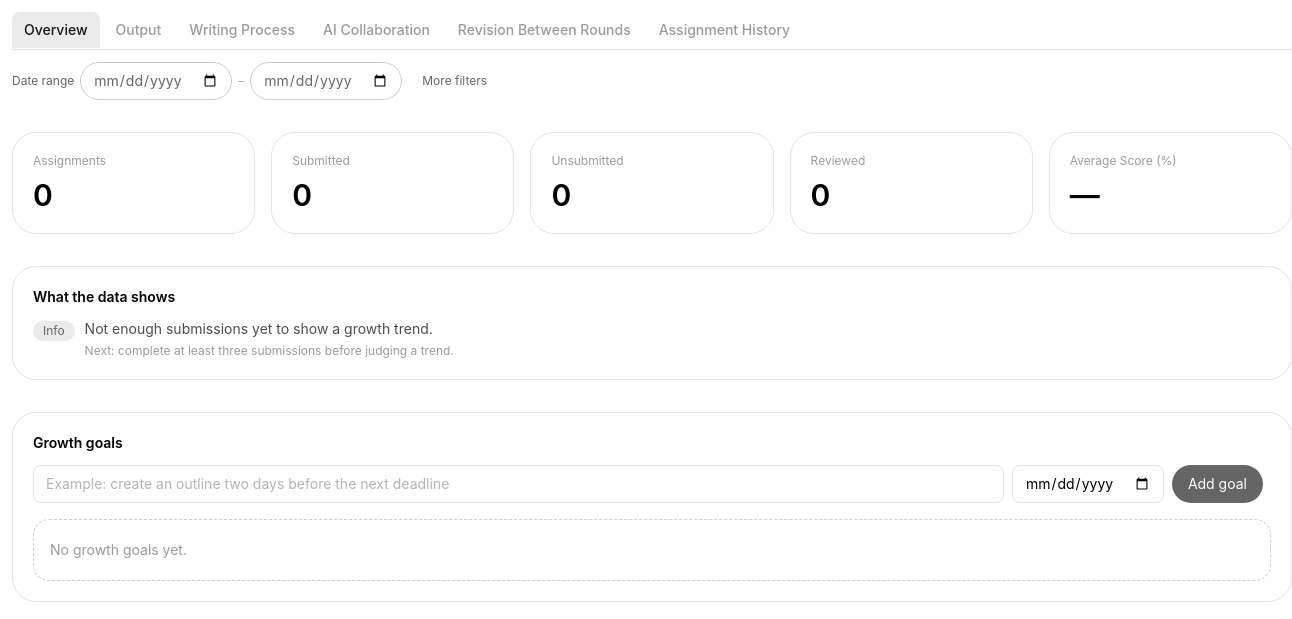
Scenario: StudentGrowthProfile › student round revision section › shows the section when returns are enabled even without resubmissions
Click the button "Revision Between Rounds" at coordinates (544, 30), box [446,12,643,48]
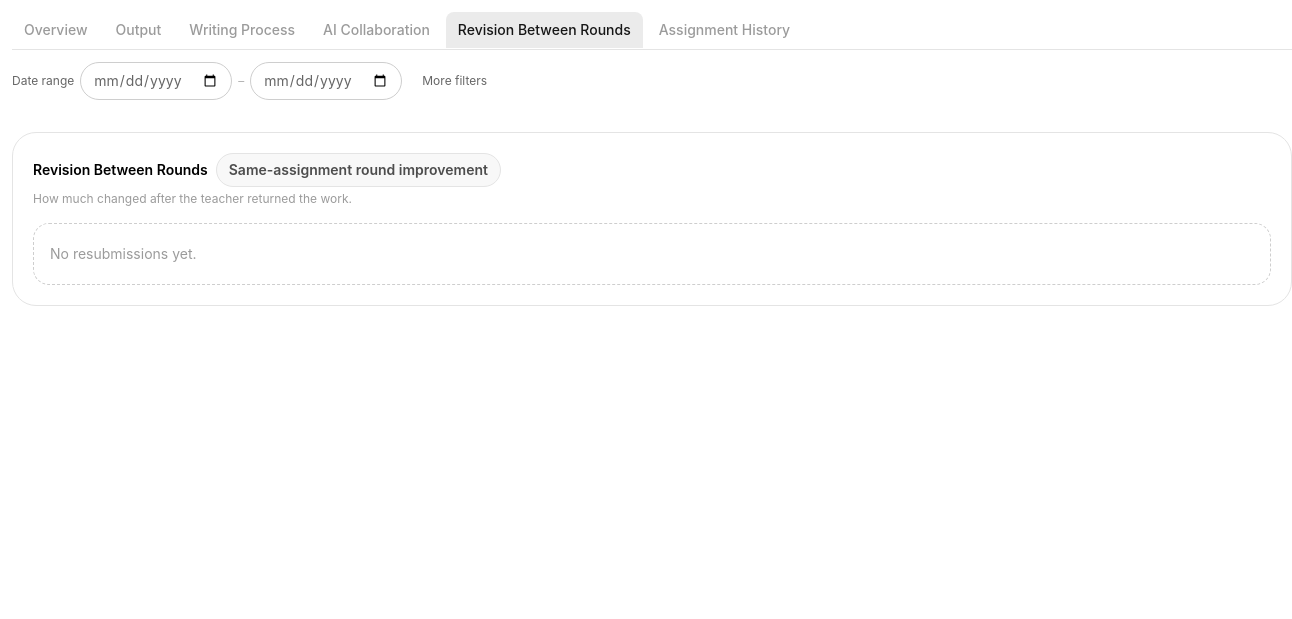
Now the text "No resubmissions yet." is shown, box [33,223,1271,285]
